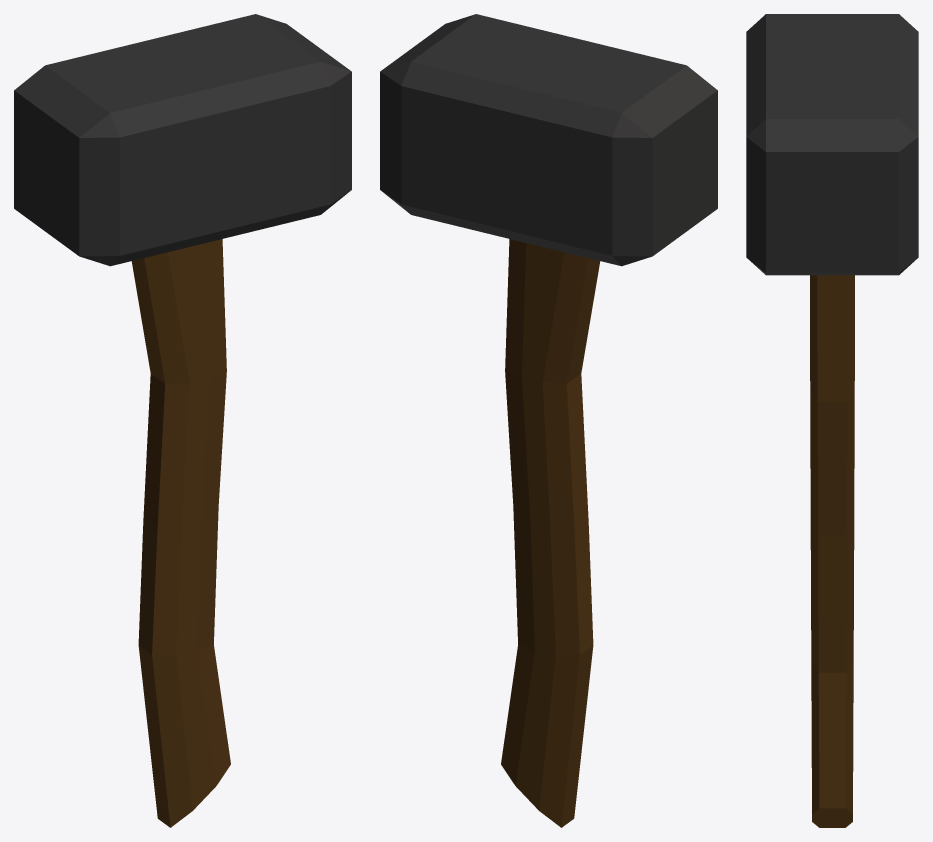
Rendered from hammer.glb.
3 renders of one model, left to right at view 1: azimuth 30°, elevation 25°; view 2: azimuth 150°, elevation 25°; view 3: azimuth 270°, elevation 25°, orthographic. The views are drawn at different scales.
Visible parts, largest first — view 1: hammer; view 2: hammer; view 3: hammer.
Boxes of the visible parts, <box> form: hammer: <box>14,14,351,827</box>; hammer: <box>380,14,717,827</box>; hammer: <box>746,14,918,827</box>.
Size of the model in its own units: 0.336 by 0.8897 by 0.18.
